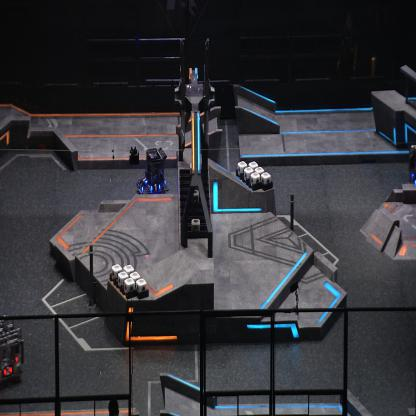car: (136, 146, 169, 196), (0, 318, 23, 388), (408, 142, 416, 194)
